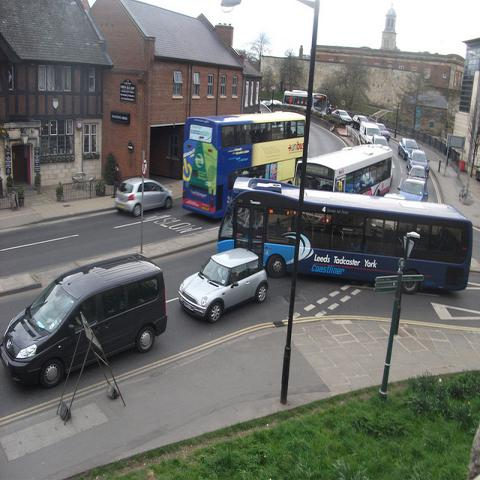bus: (215, 176, 471, 292), (182, 110, 308, 216), (292, 143, 392, 200), (284, 90, 328, 115)
car: (0, 252, 168, 388), (184, 250, 268, 319), (113, 176, 174, 215), (398, 178, 428, 202), (407, 148, 429, 178), (397, 137, 420, 162), (407, 165, 427, 183), (332, 109, 352, 125), (375, 122, 391, 141), (374, 134, 390, 147)
truck: (0, 252, 169, 388), (358, 120, 381, 145)
